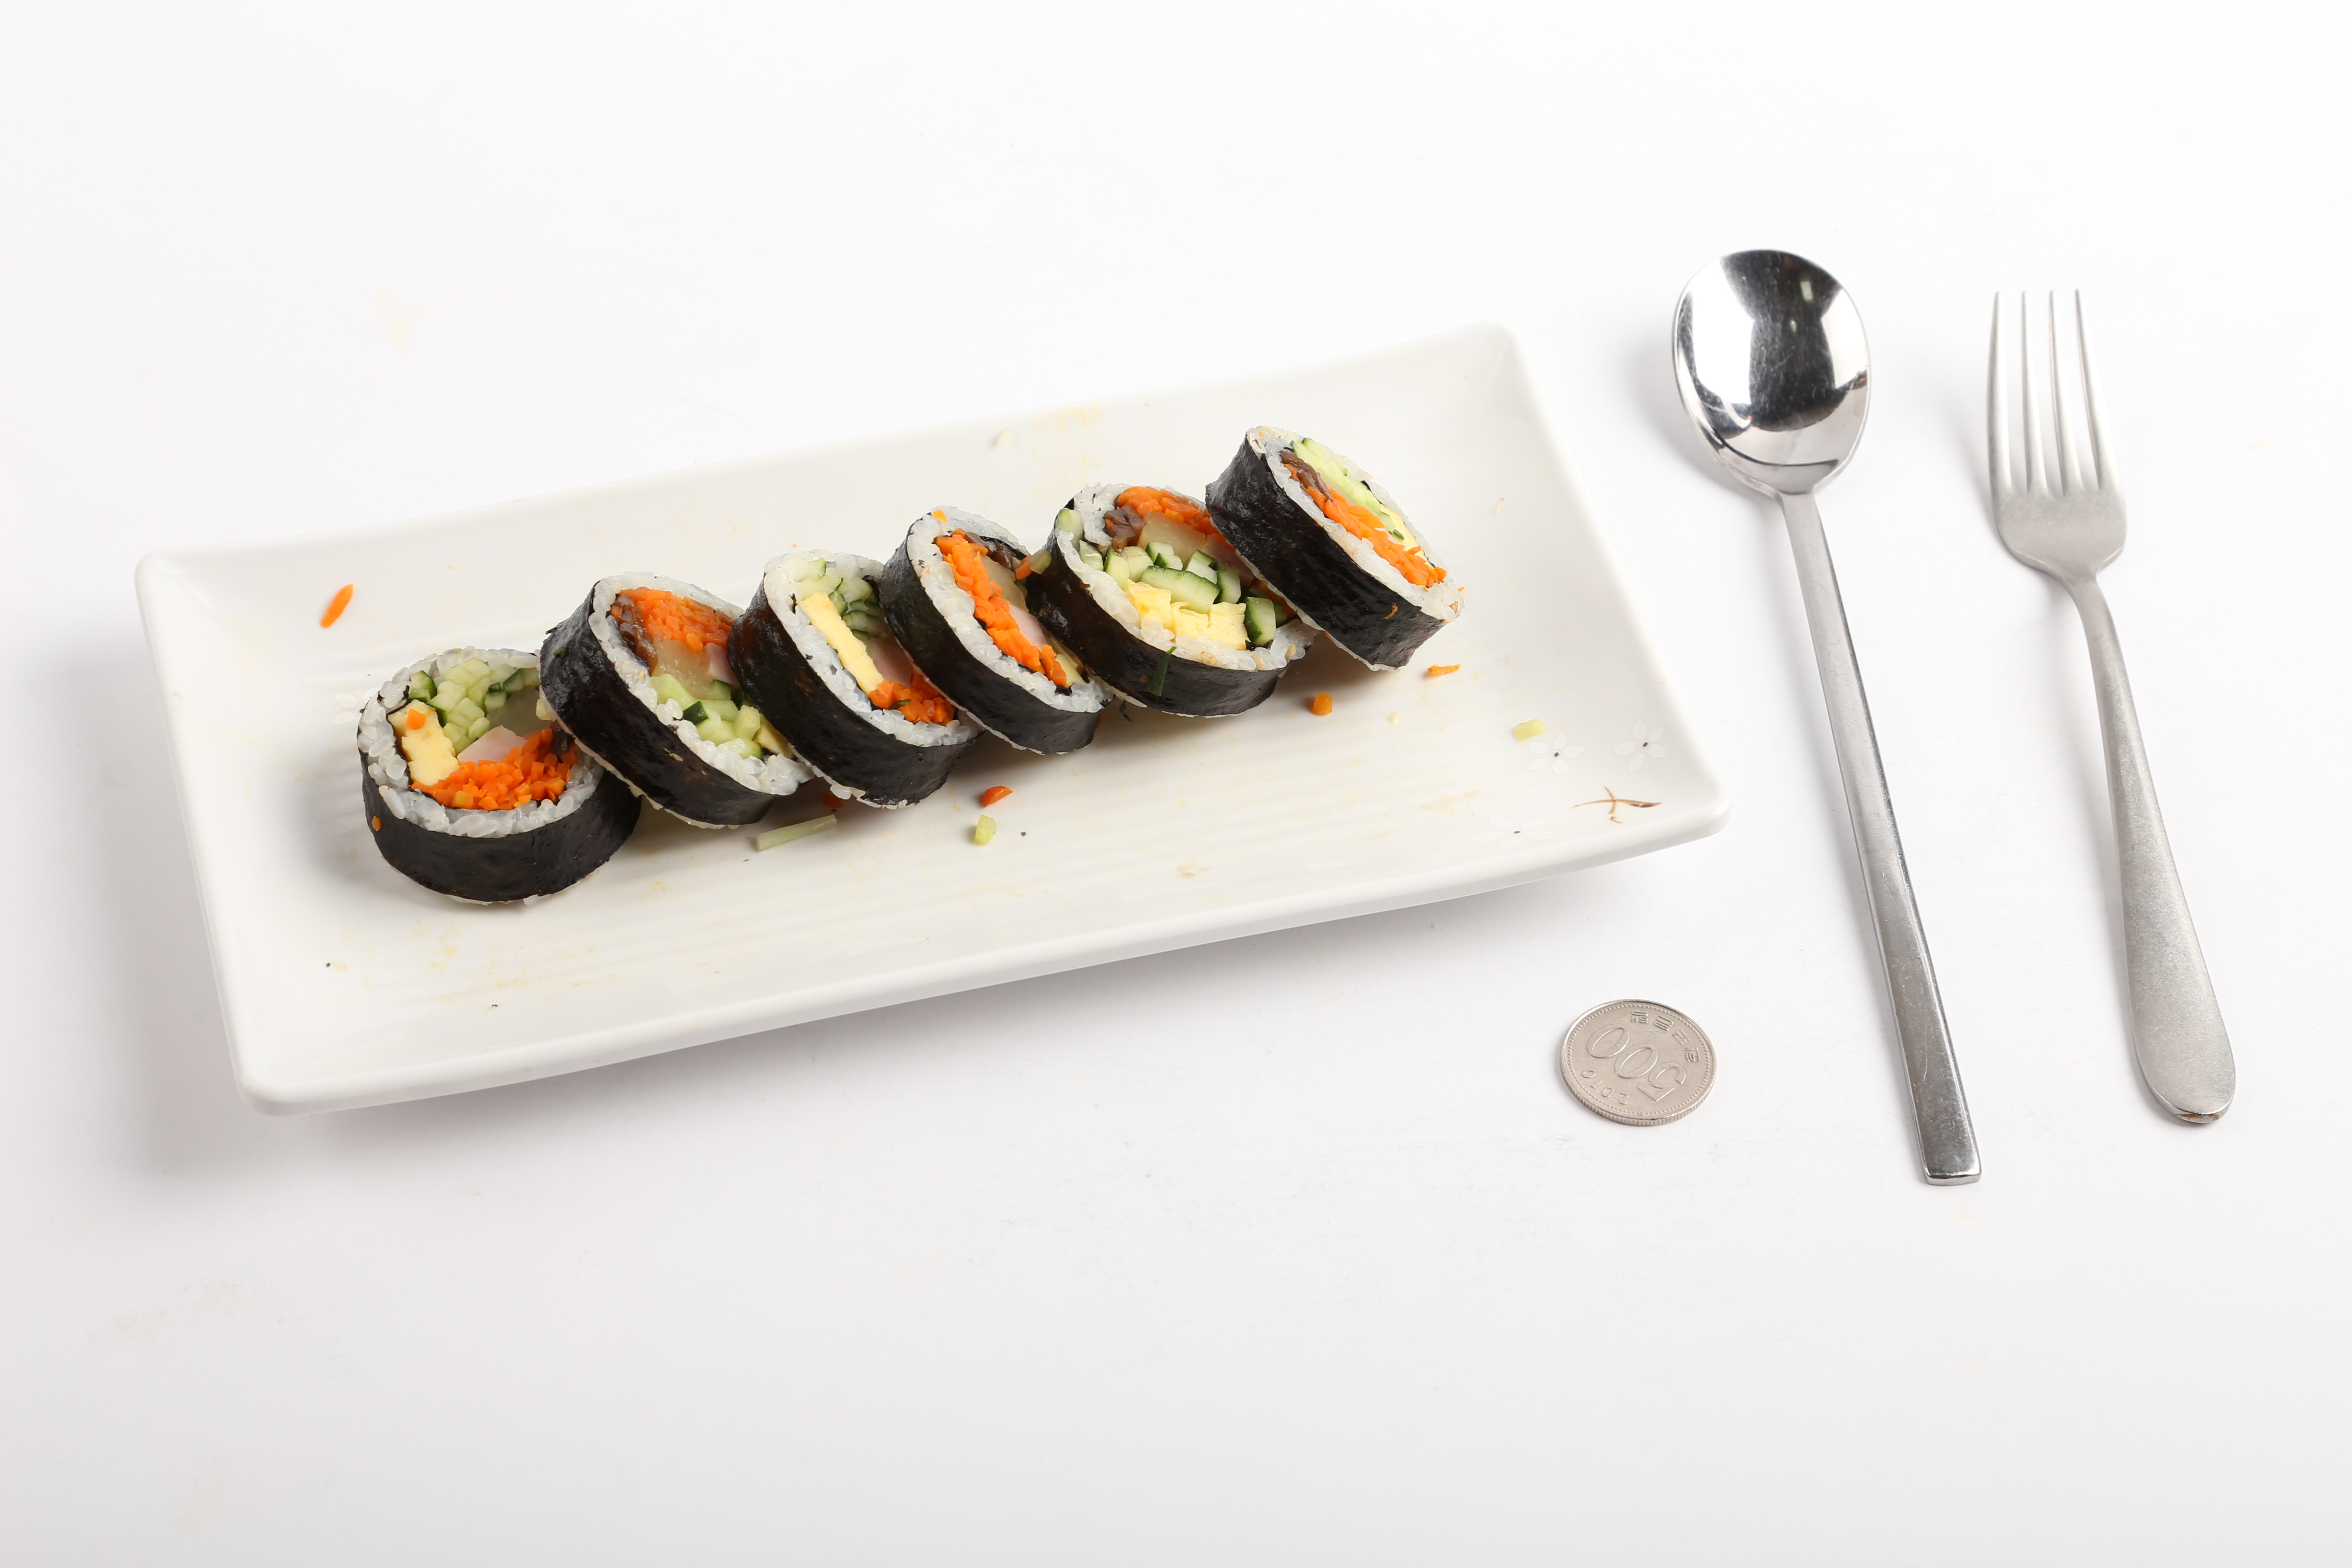dish: (131, 322, 1729, 1108)
ref_coin: (1547, 982, 1722, 1134)
ref_fork: (1979, 289, 2130, 632)
ref_spoon: (1666, 243, 1872, 541)
김밥: (357, 416, 1466, 905)
